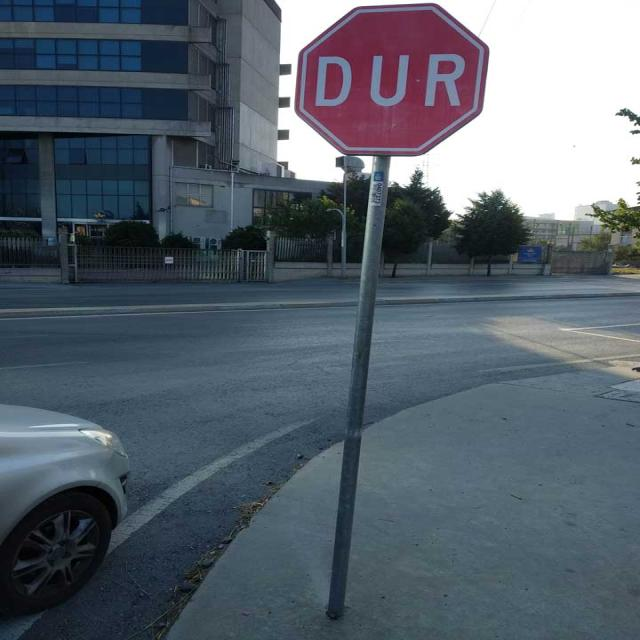dur: (294, 3, 491, 156)
